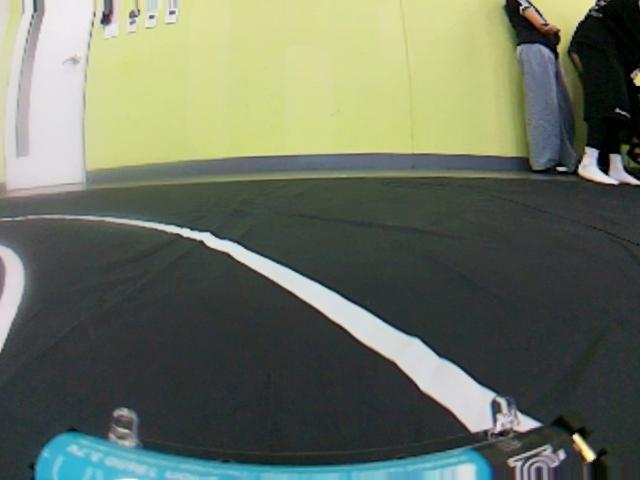left: (0, 209, 625, 478)
